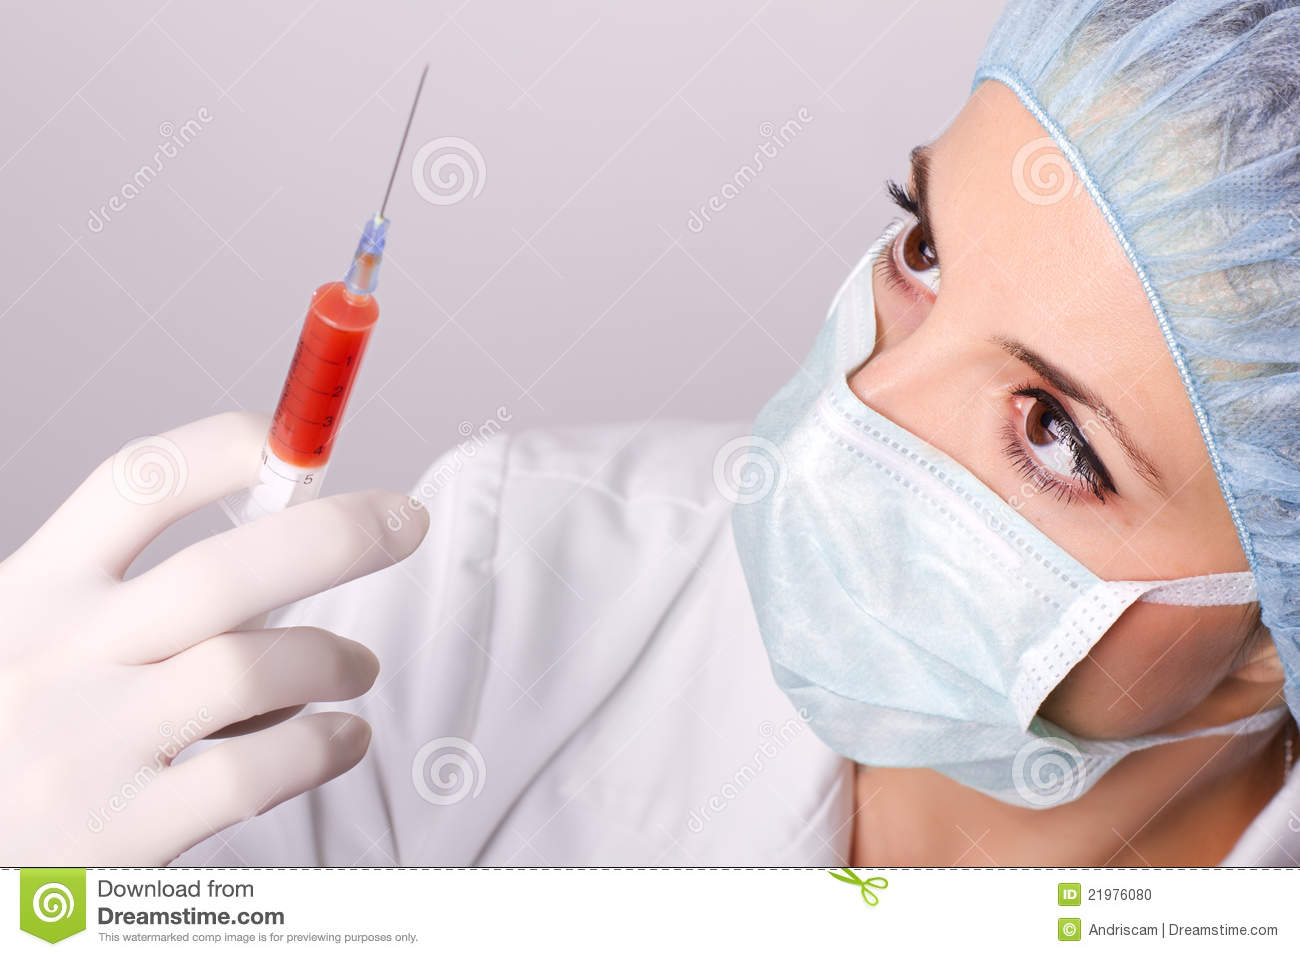mask: (735, 226, 1146, 809)
